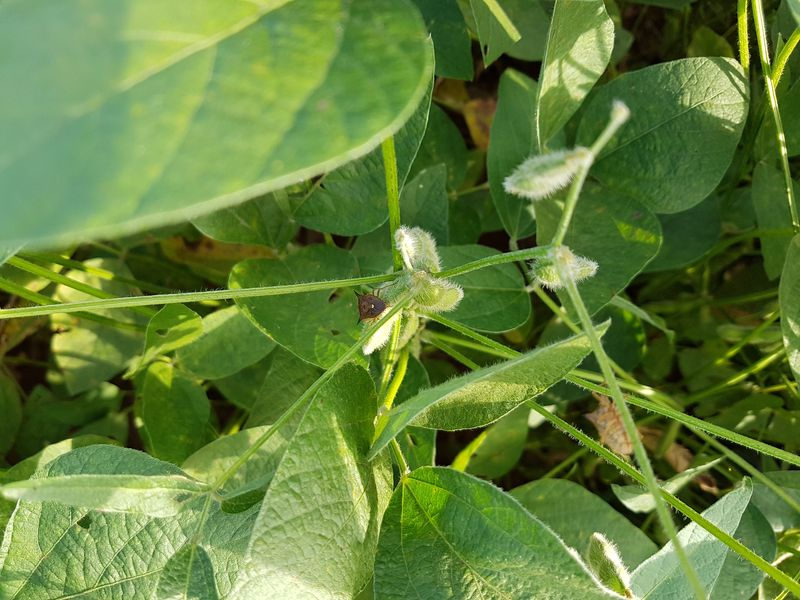Euschistus_heros_adulto: (572, 381, 651, 463), (343, 278, 398, 329)
